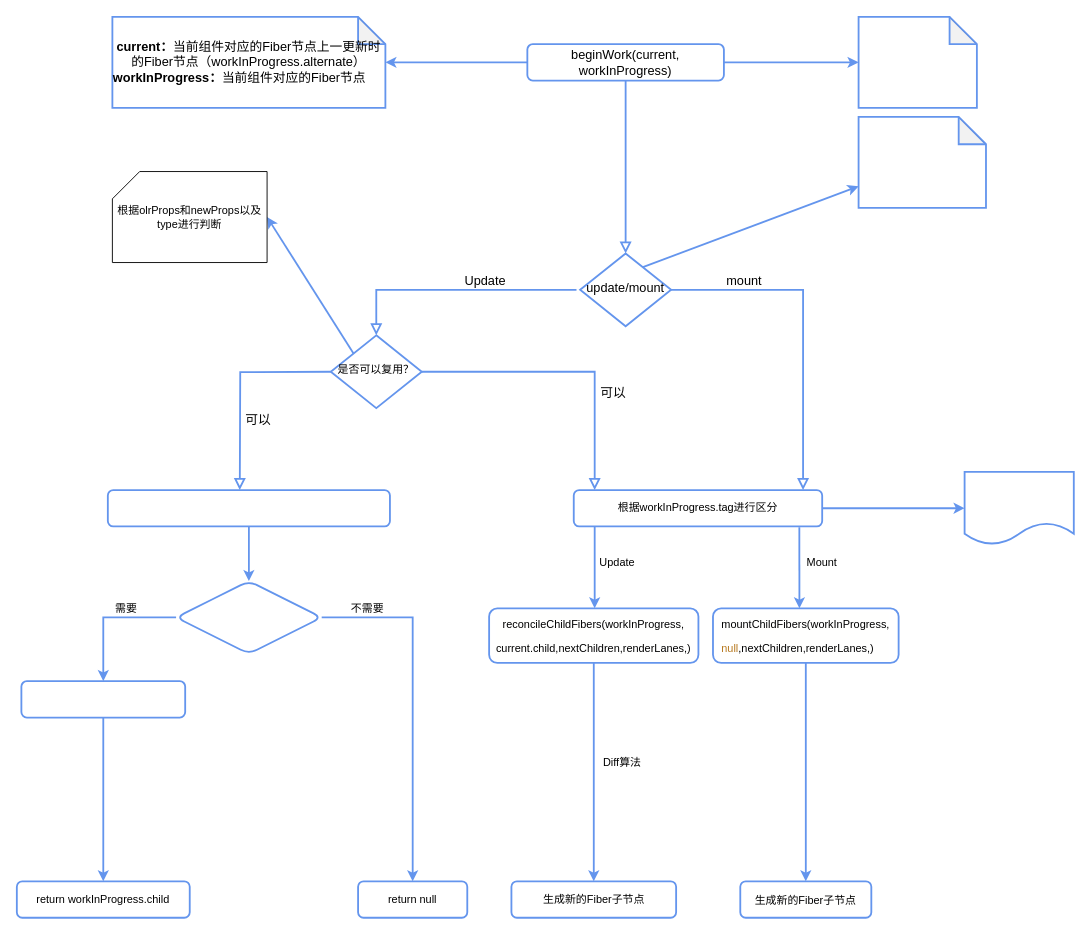
This 1090x934 diagram has some shape labels left out. The shapes that lost their labels are listed below. From the top down, each one's centre as x and y in pixels, then its label:
At point (917, 61): "renderLanes代表优先级，此处暂不使用".
At point (921, 162): "根据current=== null判断当前是update还是mount".
At point (248, 508): "bailoutOnAlreadyFinishedWork(wurrent, workInProgress)".
At point (1018, 507): "FunctionComponent ClassComponent HostComponent ...".
At point (248, 617): "判断子树是否需要更新".
At point (103, 699): "cloneChildFibers(current, workInProgress)".
